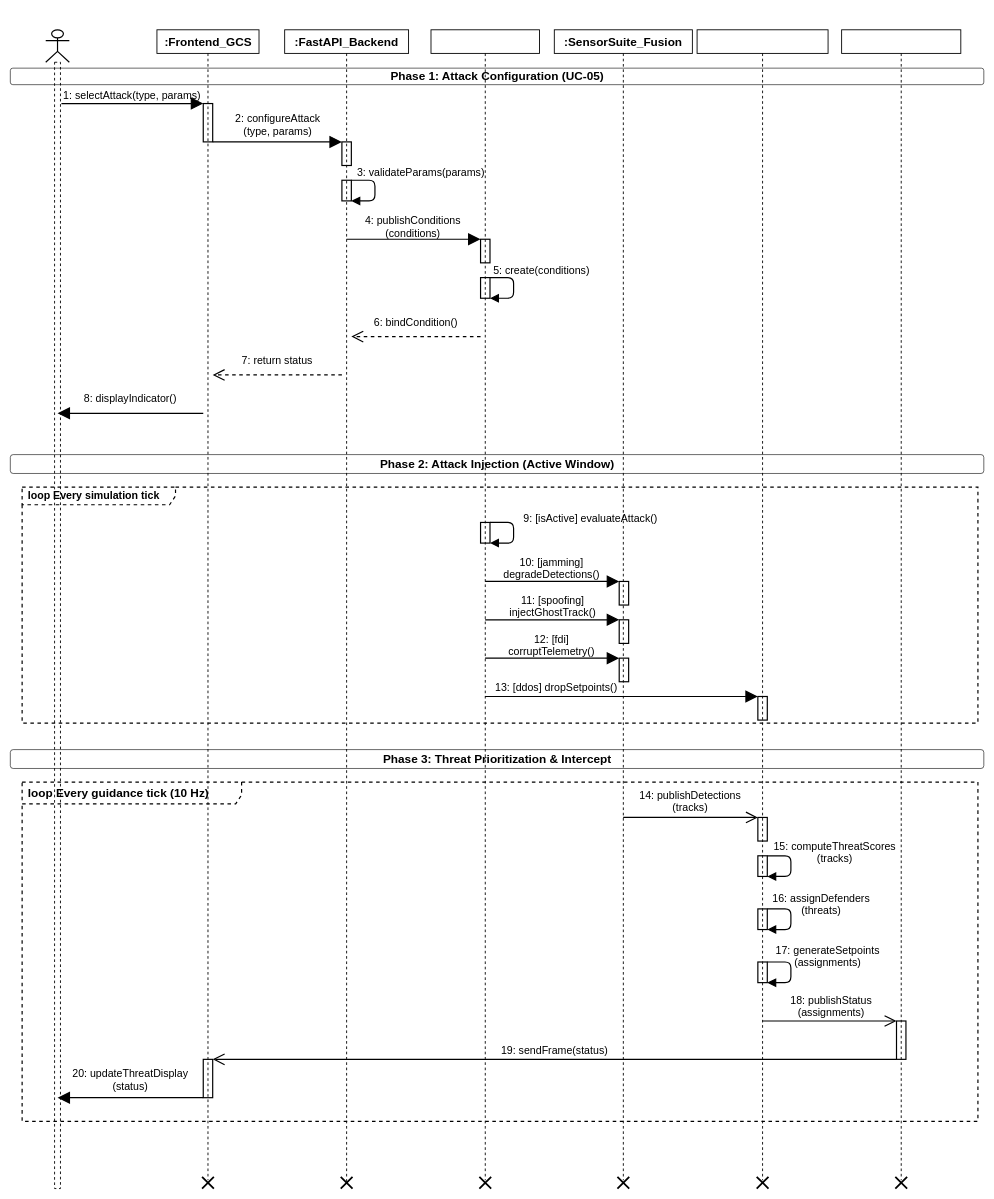
Image size: 994x1199. Some labels were removed from this diagram. Each missing label, with the box of its shape:
:AttackManager: (430, 29, 540, 1180)
:GCS_Operator: (45, 29, 70, 63)
:RosbridgeServer: (841, 29, 961, 1180)
:SwarmCoordinator: (696, 29, 828, 1180)
